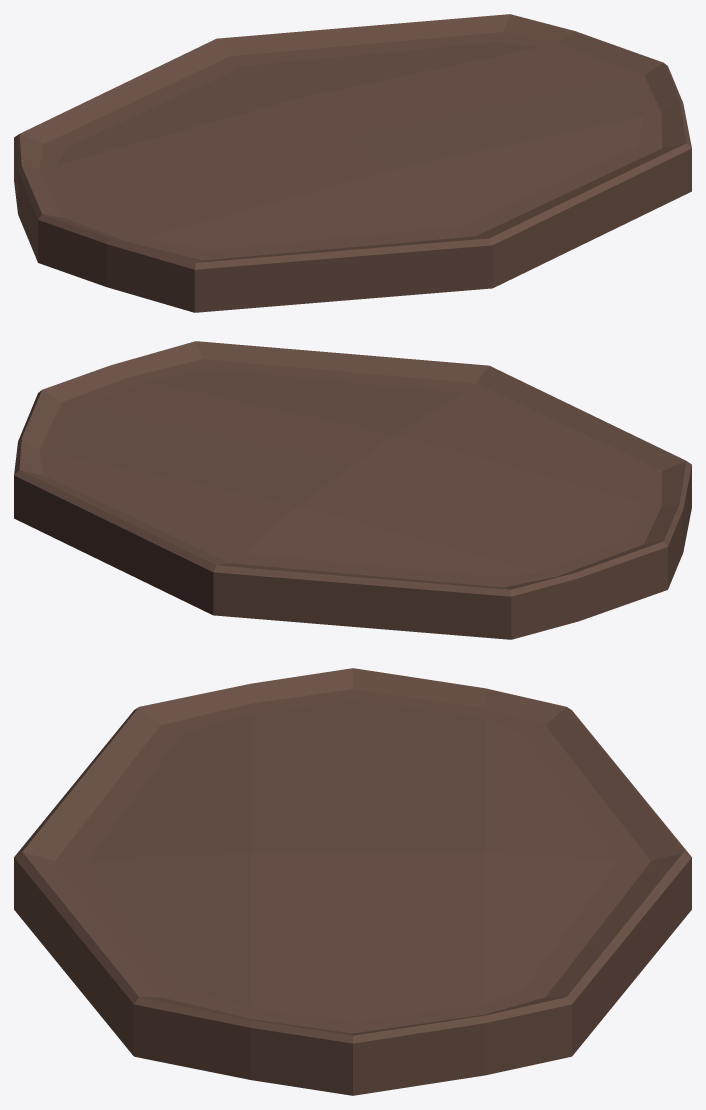
Rendered from cuttingBoard02.fbx.
3 renders of one model, top to bottom at view 1: azimuth 30°, elevation 25°; view 2: azimuth 150°, elevation 25°; view 3: azimuth 270°, elevation 25°, orthographic. The views are drawn at different scales.
Parts seen in each view (by area): view 1: cuttingBoard02; view 2: cuttingBoard02; view 3: cuttingBoard02.
Part boxes in pixels (x1,y1,x2,y2): cuttingBoard02: (14, 14, 691, 312); cuttingBoard02: (14, 341, 691, 639); cuttingBoard02: (14, 668, 691, 1095).
Bounding box in the file's own units: 76.06 × 5.48 × 58.49.
1 material, 1 textured.
